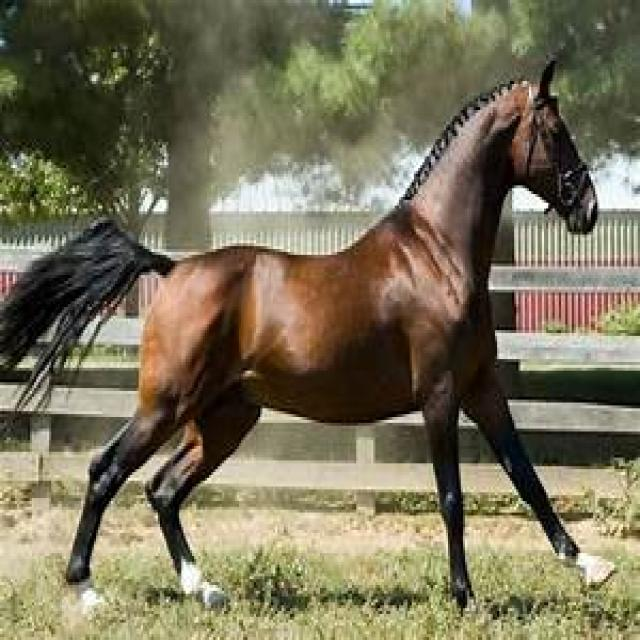horse: (0, 64, 612, 614)
